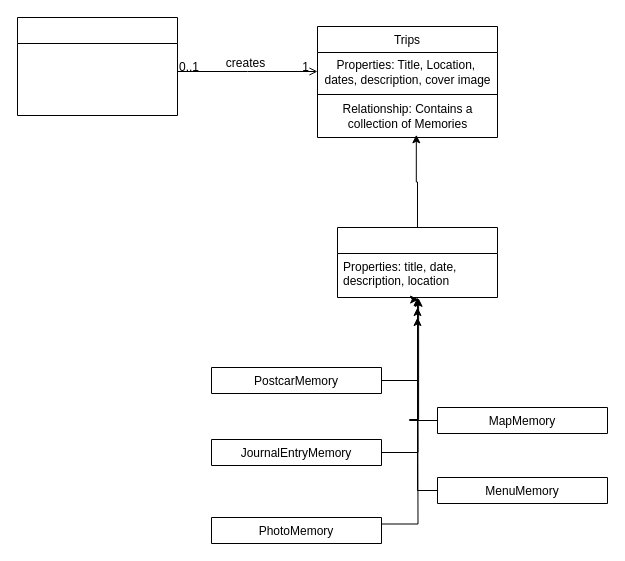
This 625x561 diagram has some shape labels left out. Here are the shapes that lost their labels. From the top down, the box of each, then its label:
(16, 16, 178, 116): User
(336, 226, 498, 298): Memory (Interface)
